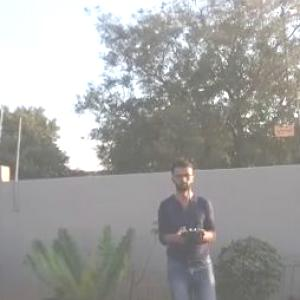follow: (153, 152, 226, 299)
